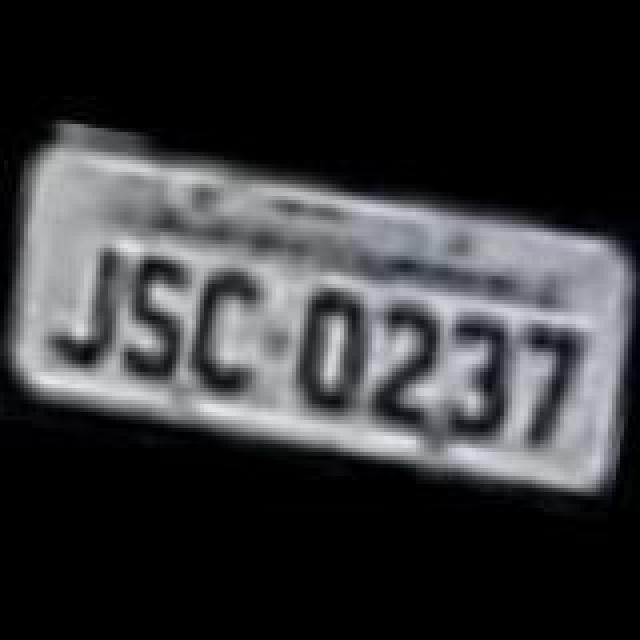2: (358, 292, 454, 432)
3: (432, 308, 524, 448)
7: (506, 322, 594, 454)
C: (186, 266, 274, 394)
J: (46, 236, 126, 372)
O: (284, 282, 368, 418)
S: (112, 244, 204, 380)
